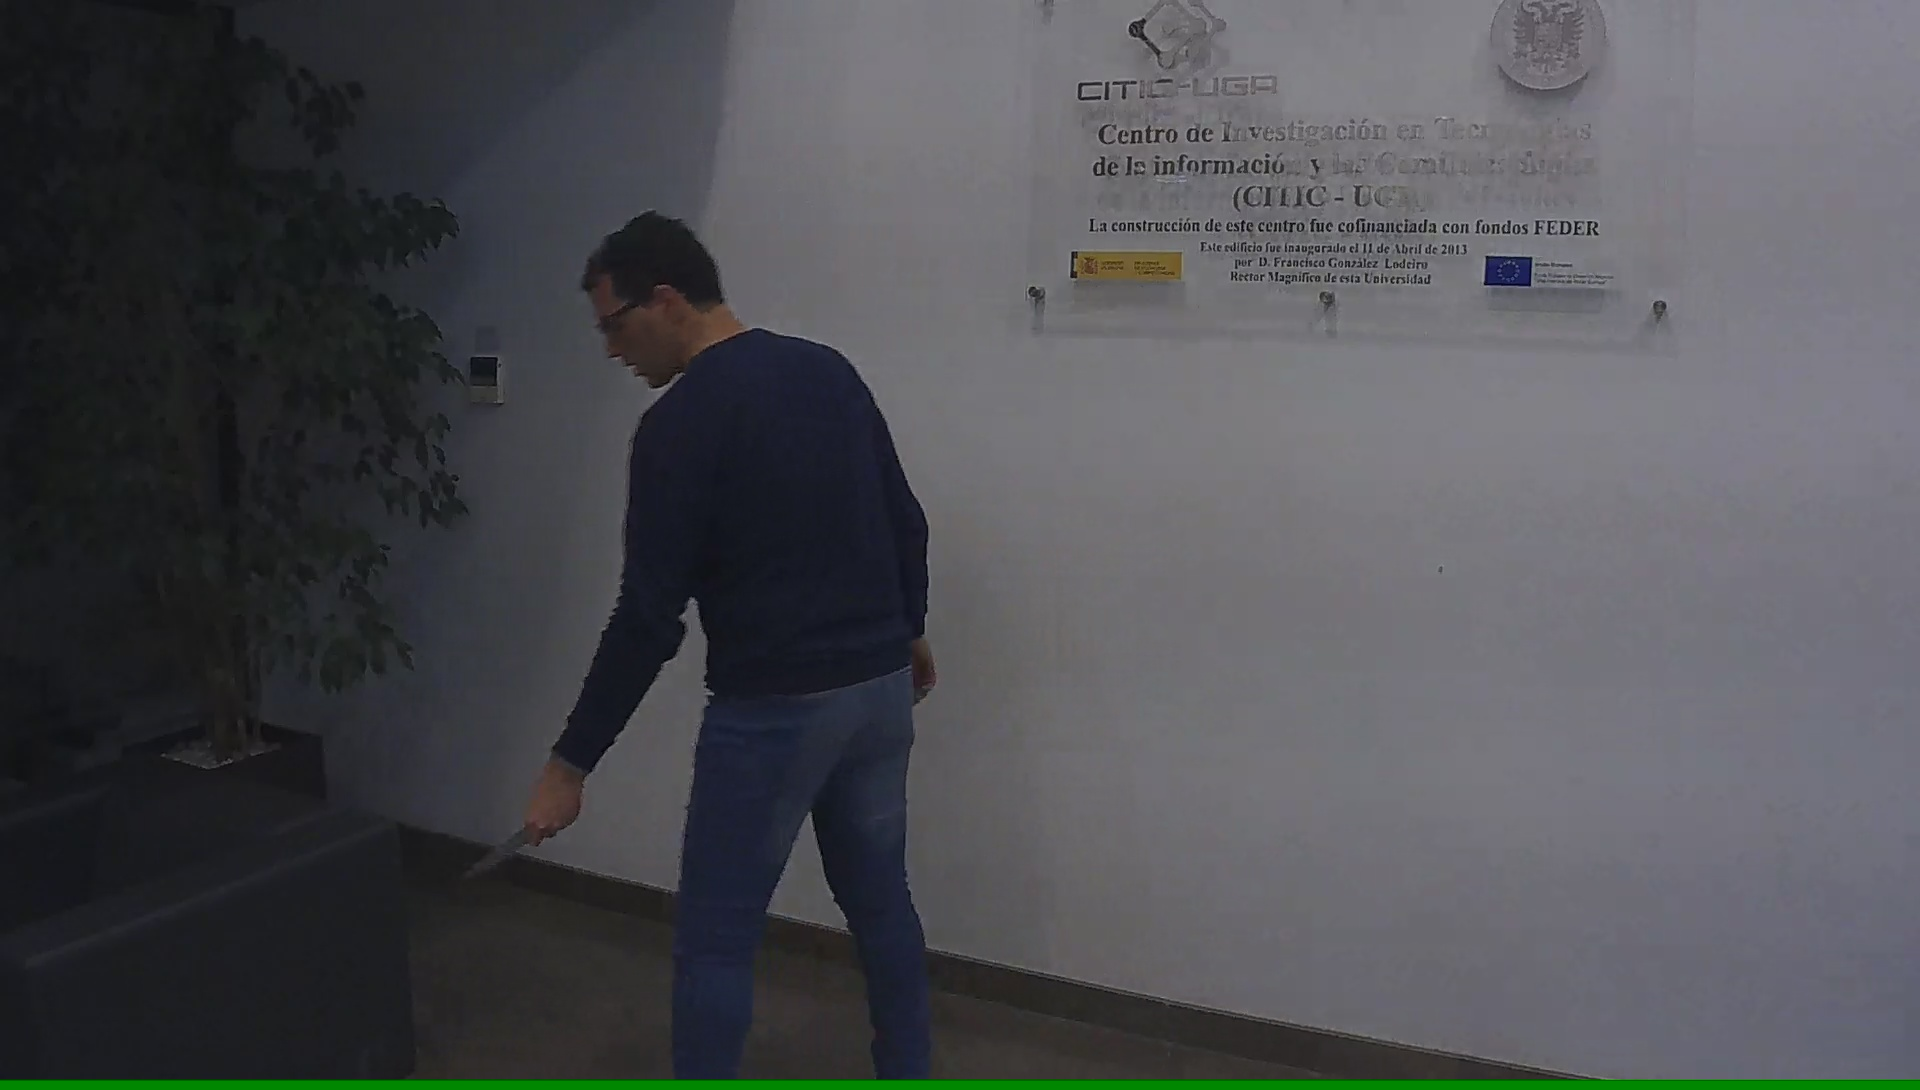knife: (450, 799, 578, 891)
